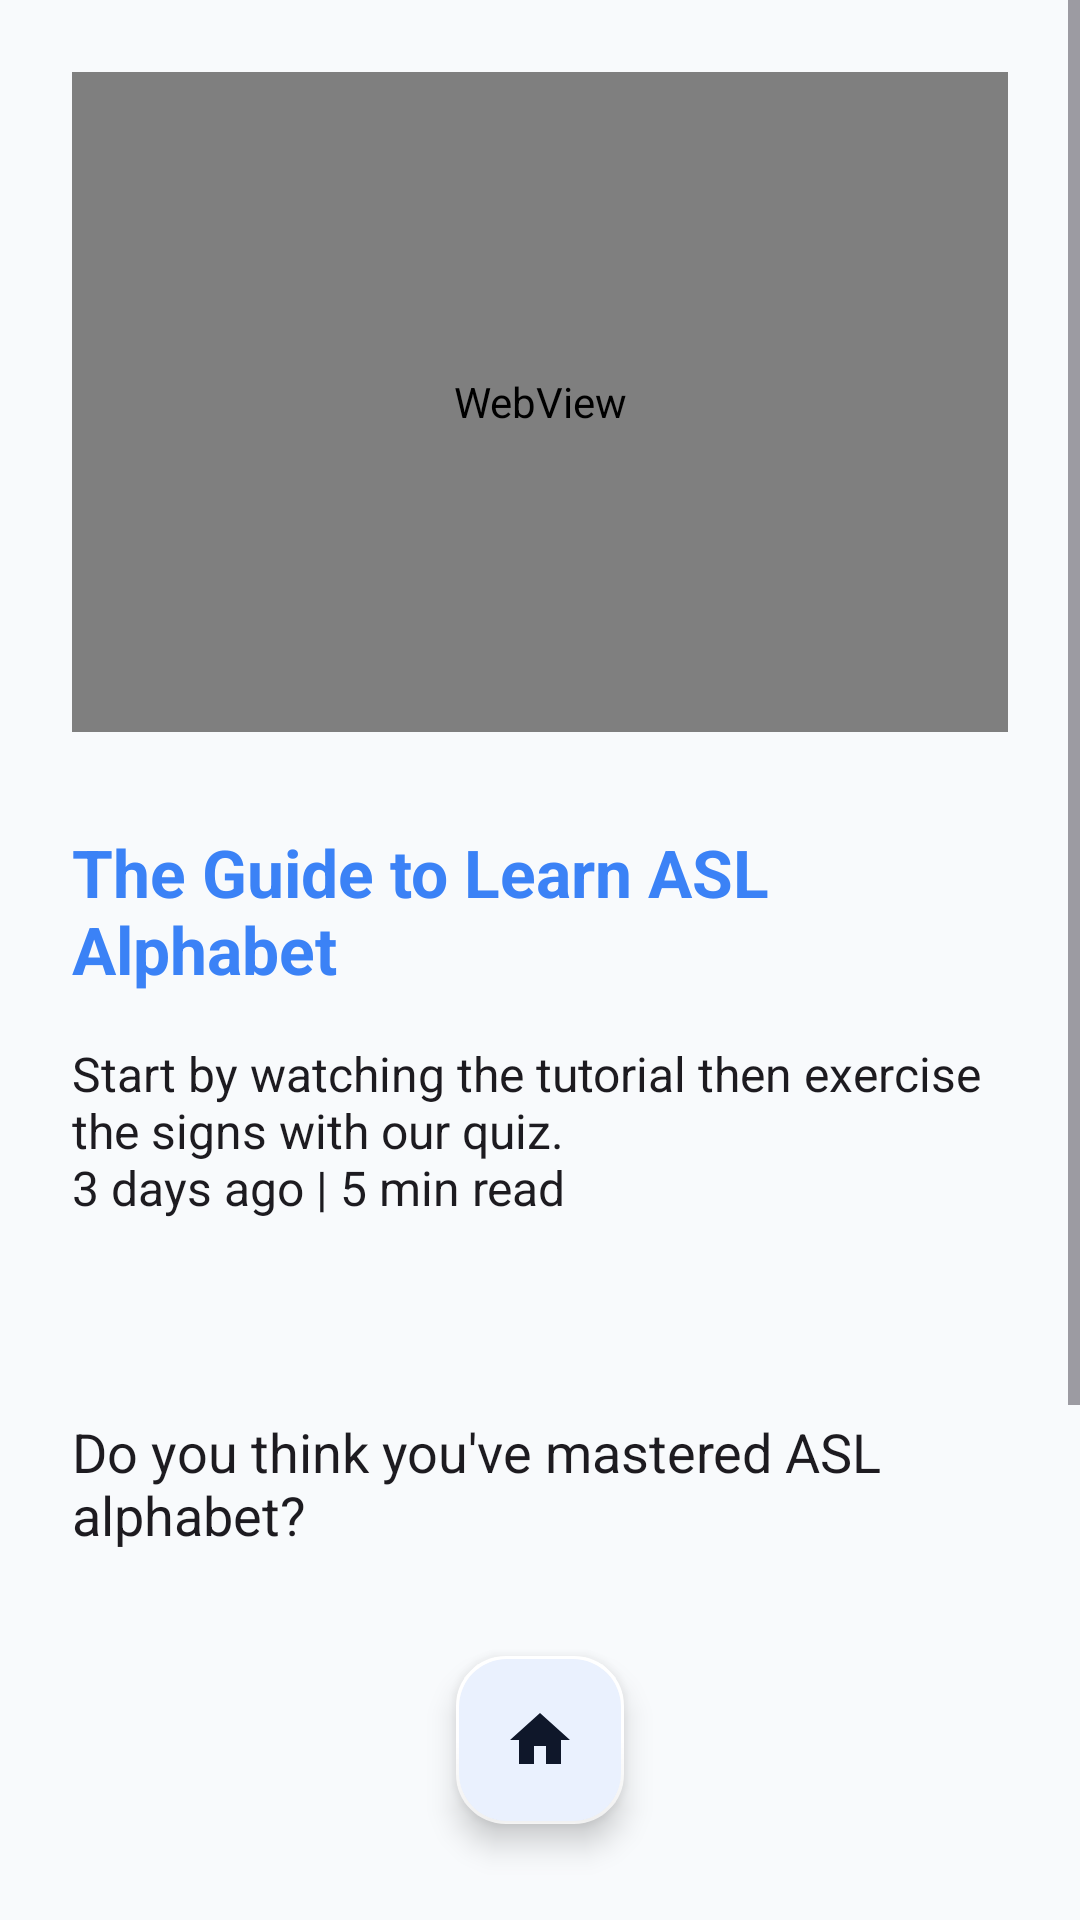

Named icons in this screenshot (1080px×1920px) and their centers, [x,y]:
Home: [540,1738]
